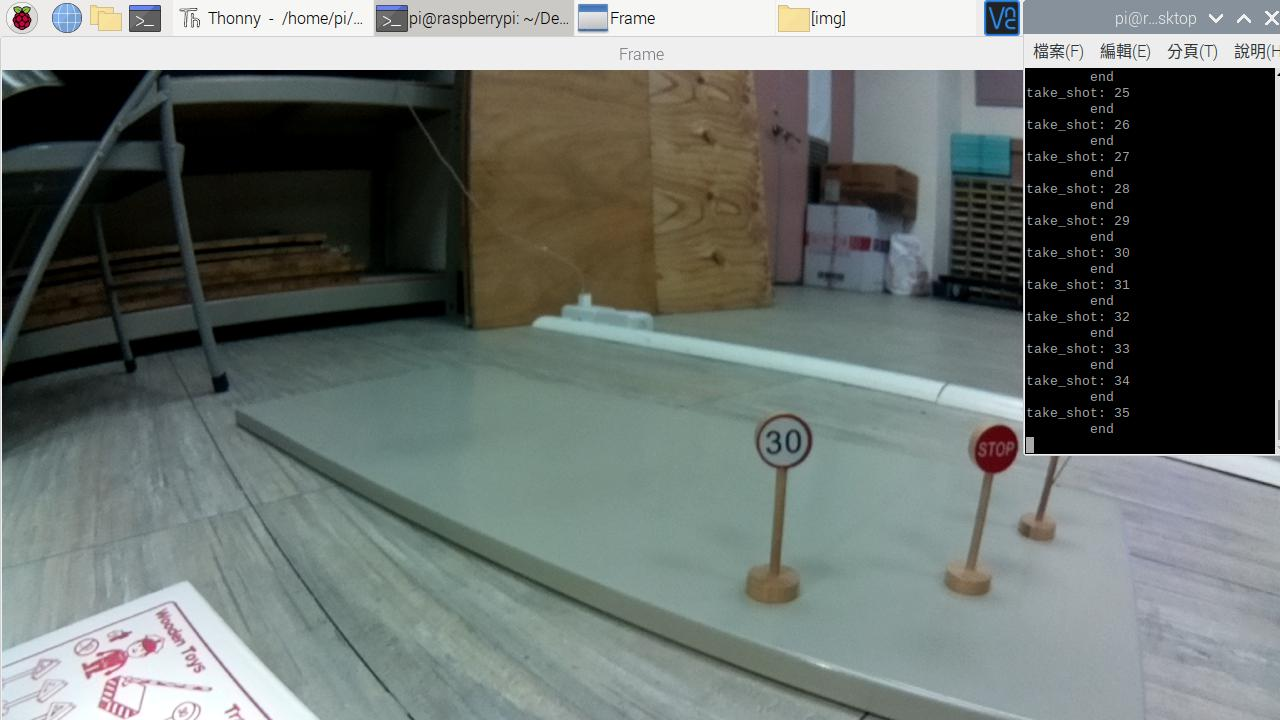Speed30: (754, 413, 816, 470)
Stop: (974, 422, 1018, 478)
